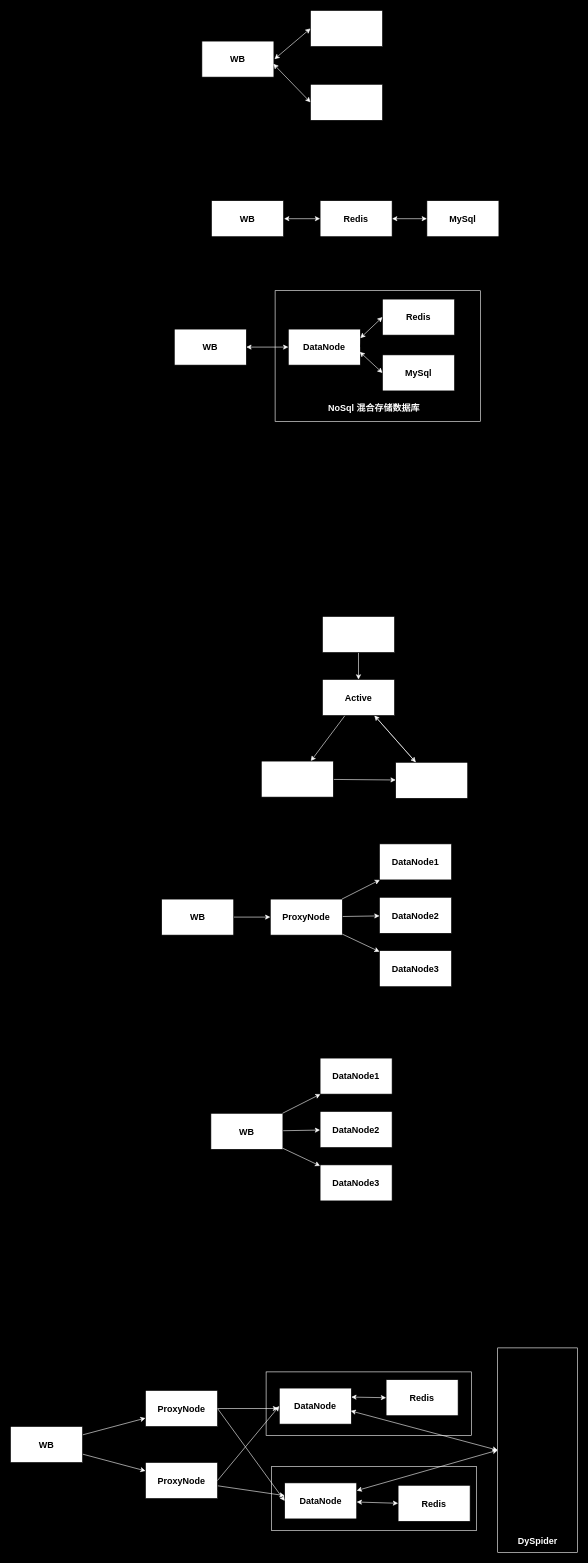
Some shapes in this 588 by 1563 pixel diagram are drawn without their labels. Each missing label, with the centre of its shape:
"Cache" belongs at [346,28].
"DB" belongs at [346,102].
"Miss" belongs at [358,634].
"Unactive" belongs at [297,778].
"Updated" belongs at [431,780].
